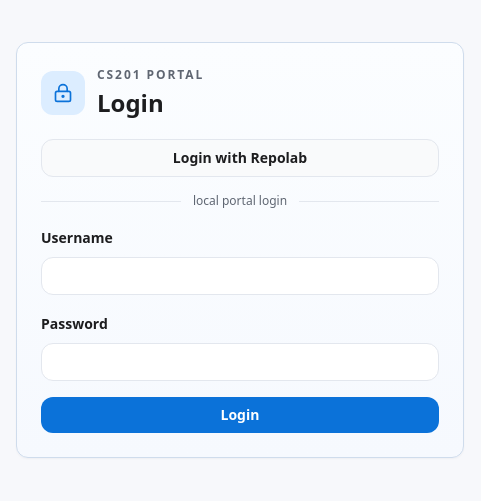
Test: LoginPage › shows an error for failed login
In the field labelled "Username": coordinates (240, 276) [41,257,439,295], type "student"
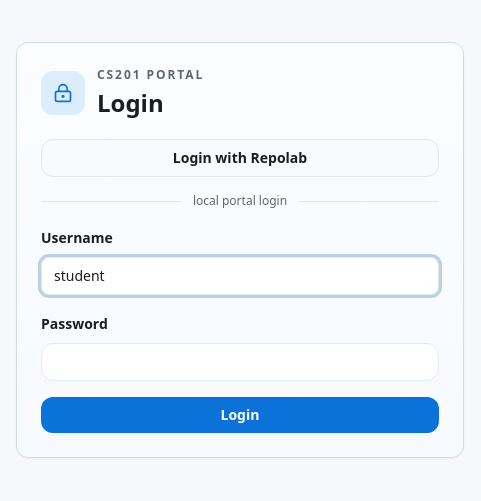
In the password field labelled "Password": coordinates (240, 362) [41,343,439,381], type "wrong"
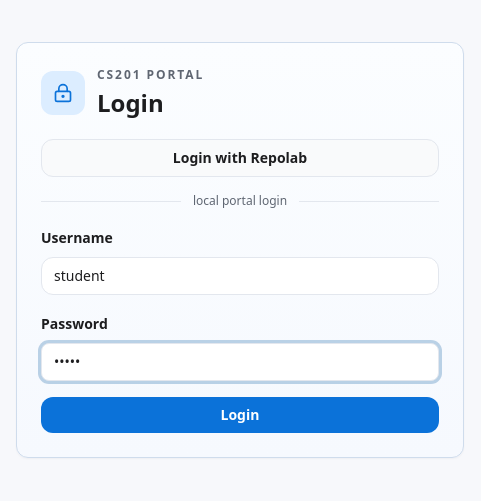
Click the button "Login": coordinates (240, 415) [41,397,439,433]
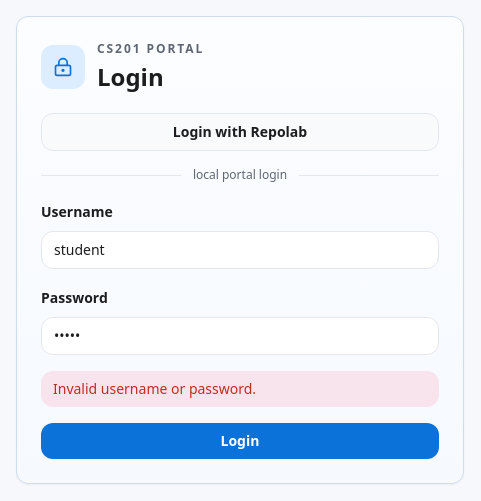
Result: the text "Invalid username or password." is shown at [41,371,439,407]
